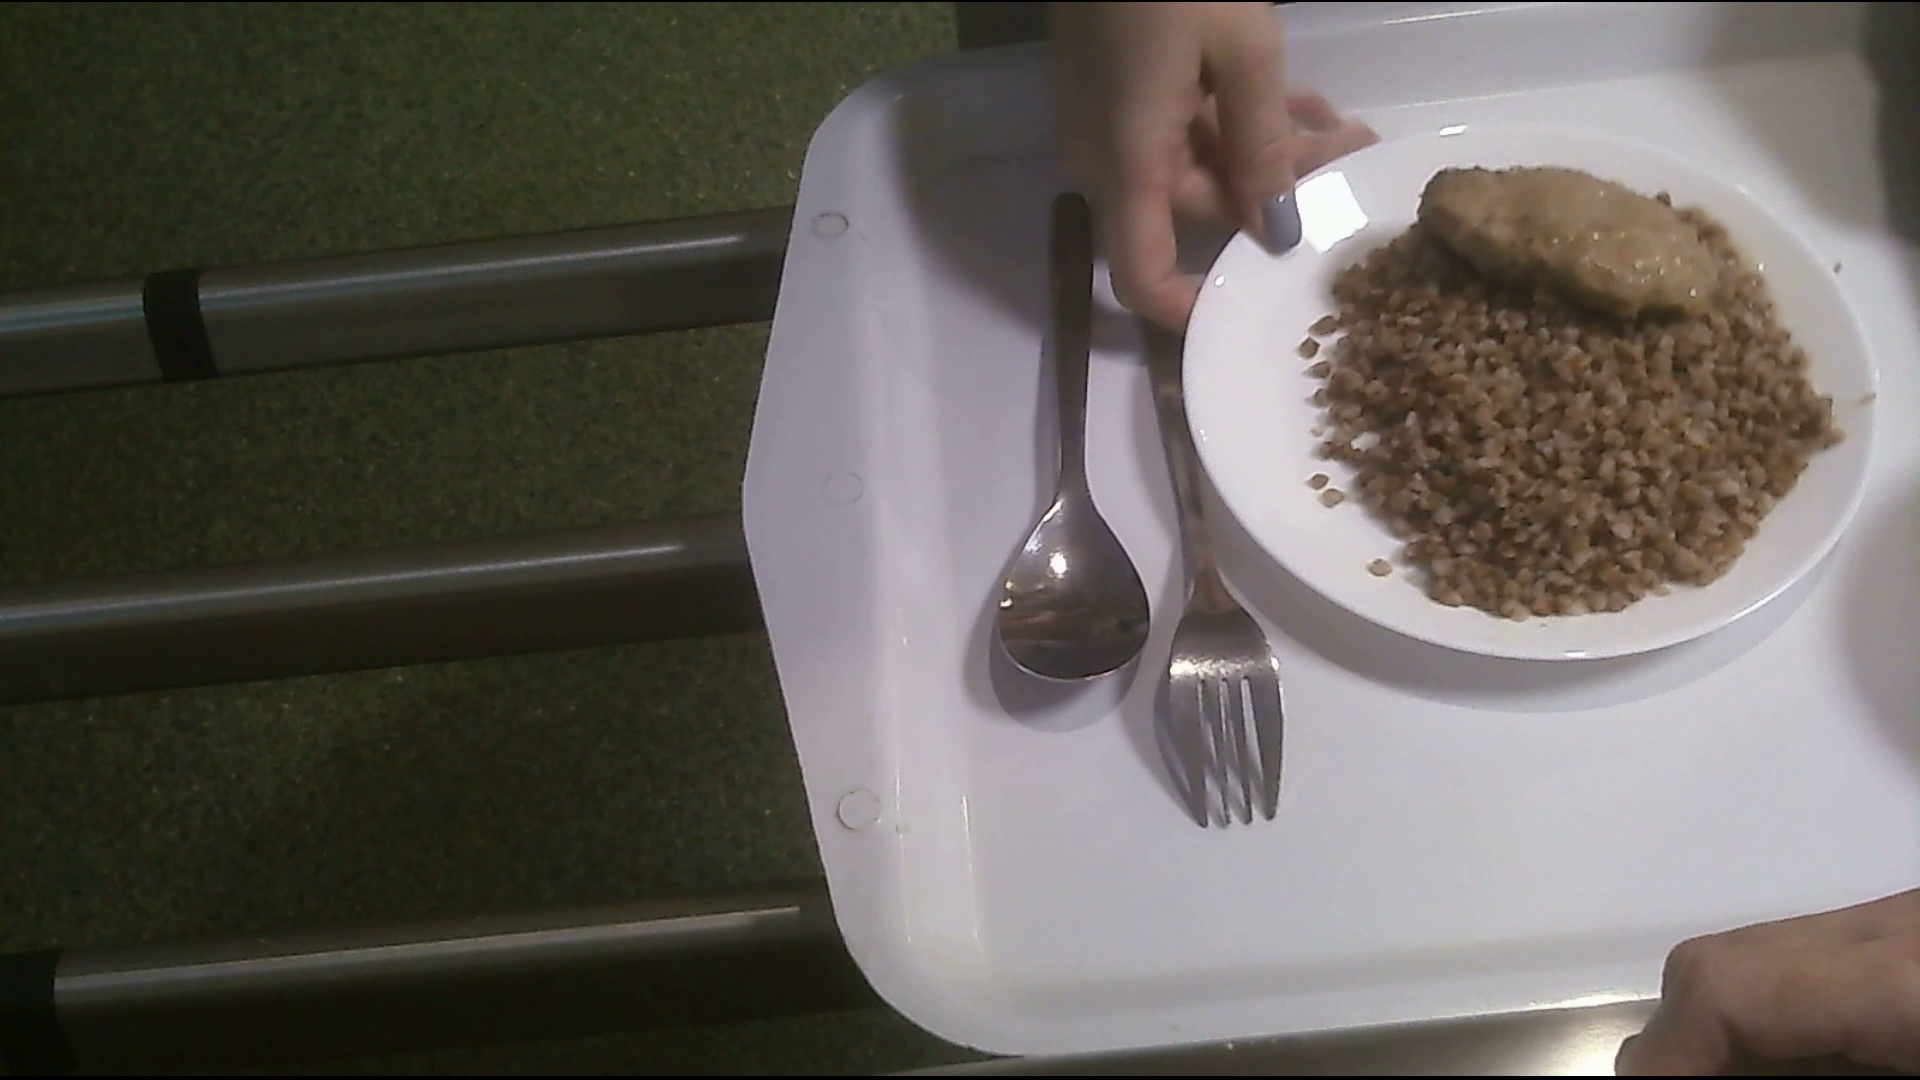cutlery: (1007, 190, 1149, 705), (1147, 313, 1283, 832)
plate: (1178, 127, 1888, 667)
